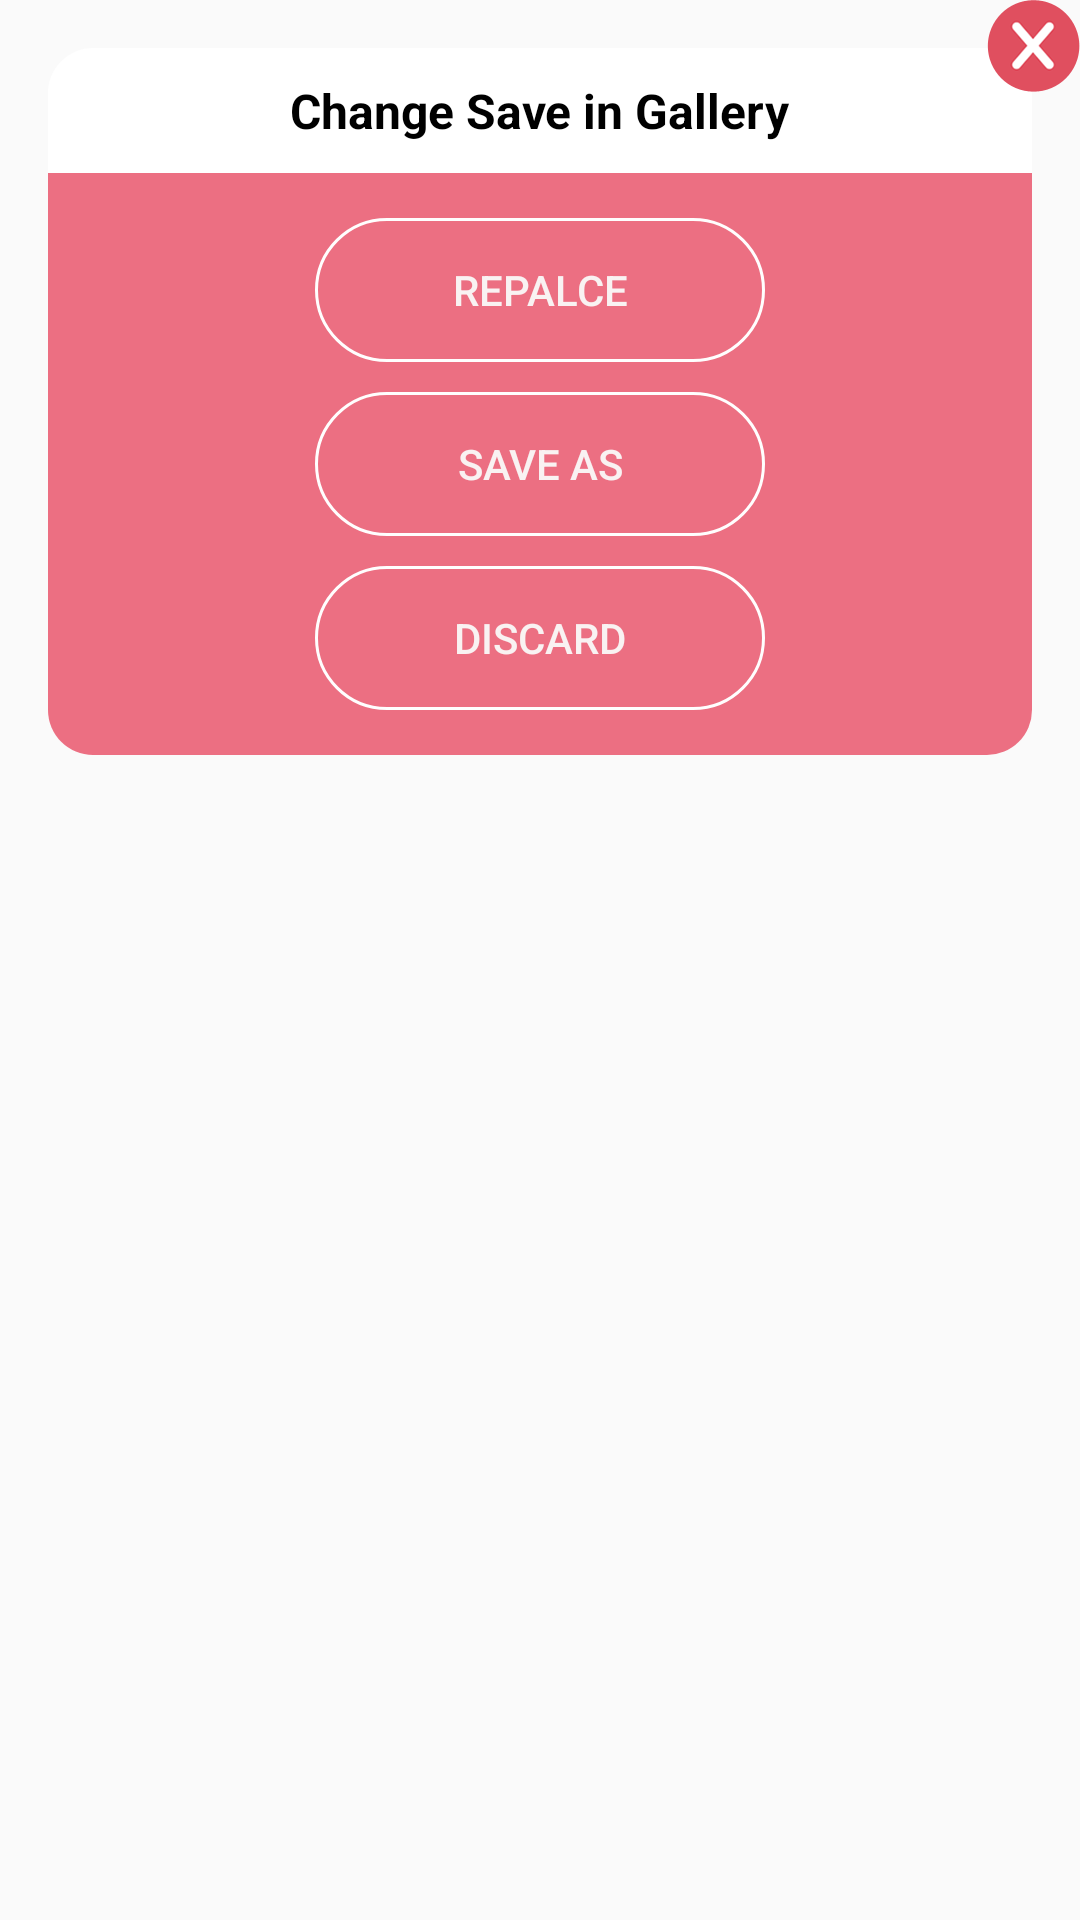

Icon bounding boxes for this 1080 x 1920 phone screenshot, format (x1, y1, x2, y2):
popup cancel: (987, 0, 1080, 92)
